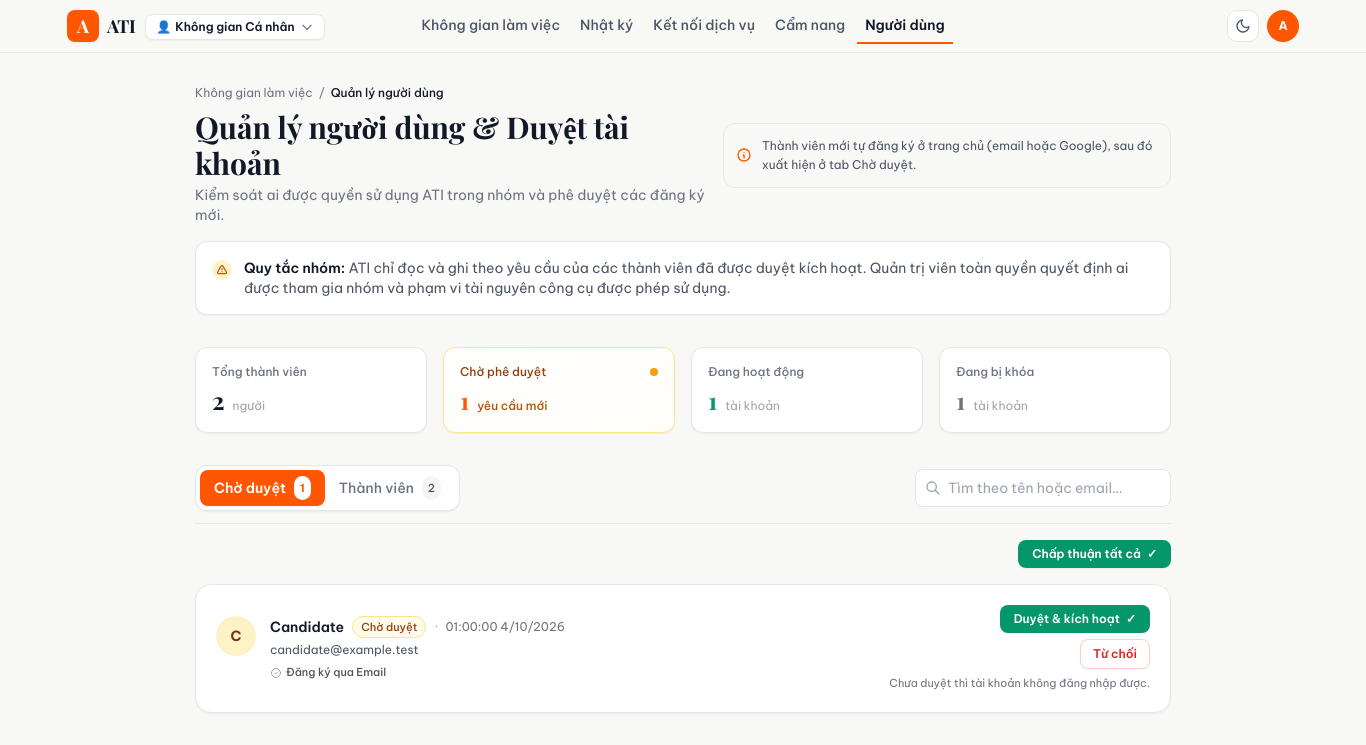
Test: keeps pending accounts in the approval flow without lock or unlock actions
The image size is (1366, 745).
Expected: the text "candidate@example.test" is shown, [270, 642, 419, 657]
Click the button "Duyệt & kích hoạt ✓" at [1075, 619], box [1000, 605, 1150, 633]
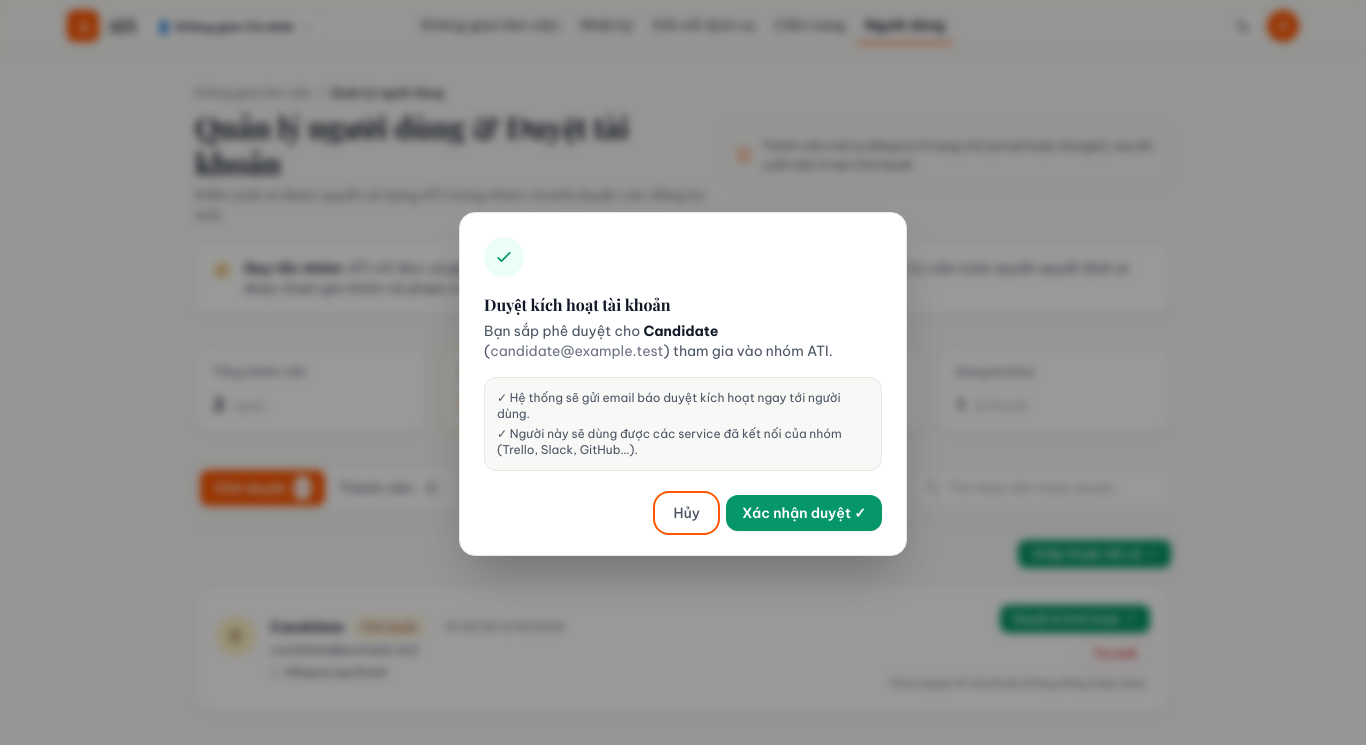
Result: the dialog shows "Người này sẽ dùng được các service đã kết nối của nhóm" at [497, 426, 842, 457]
